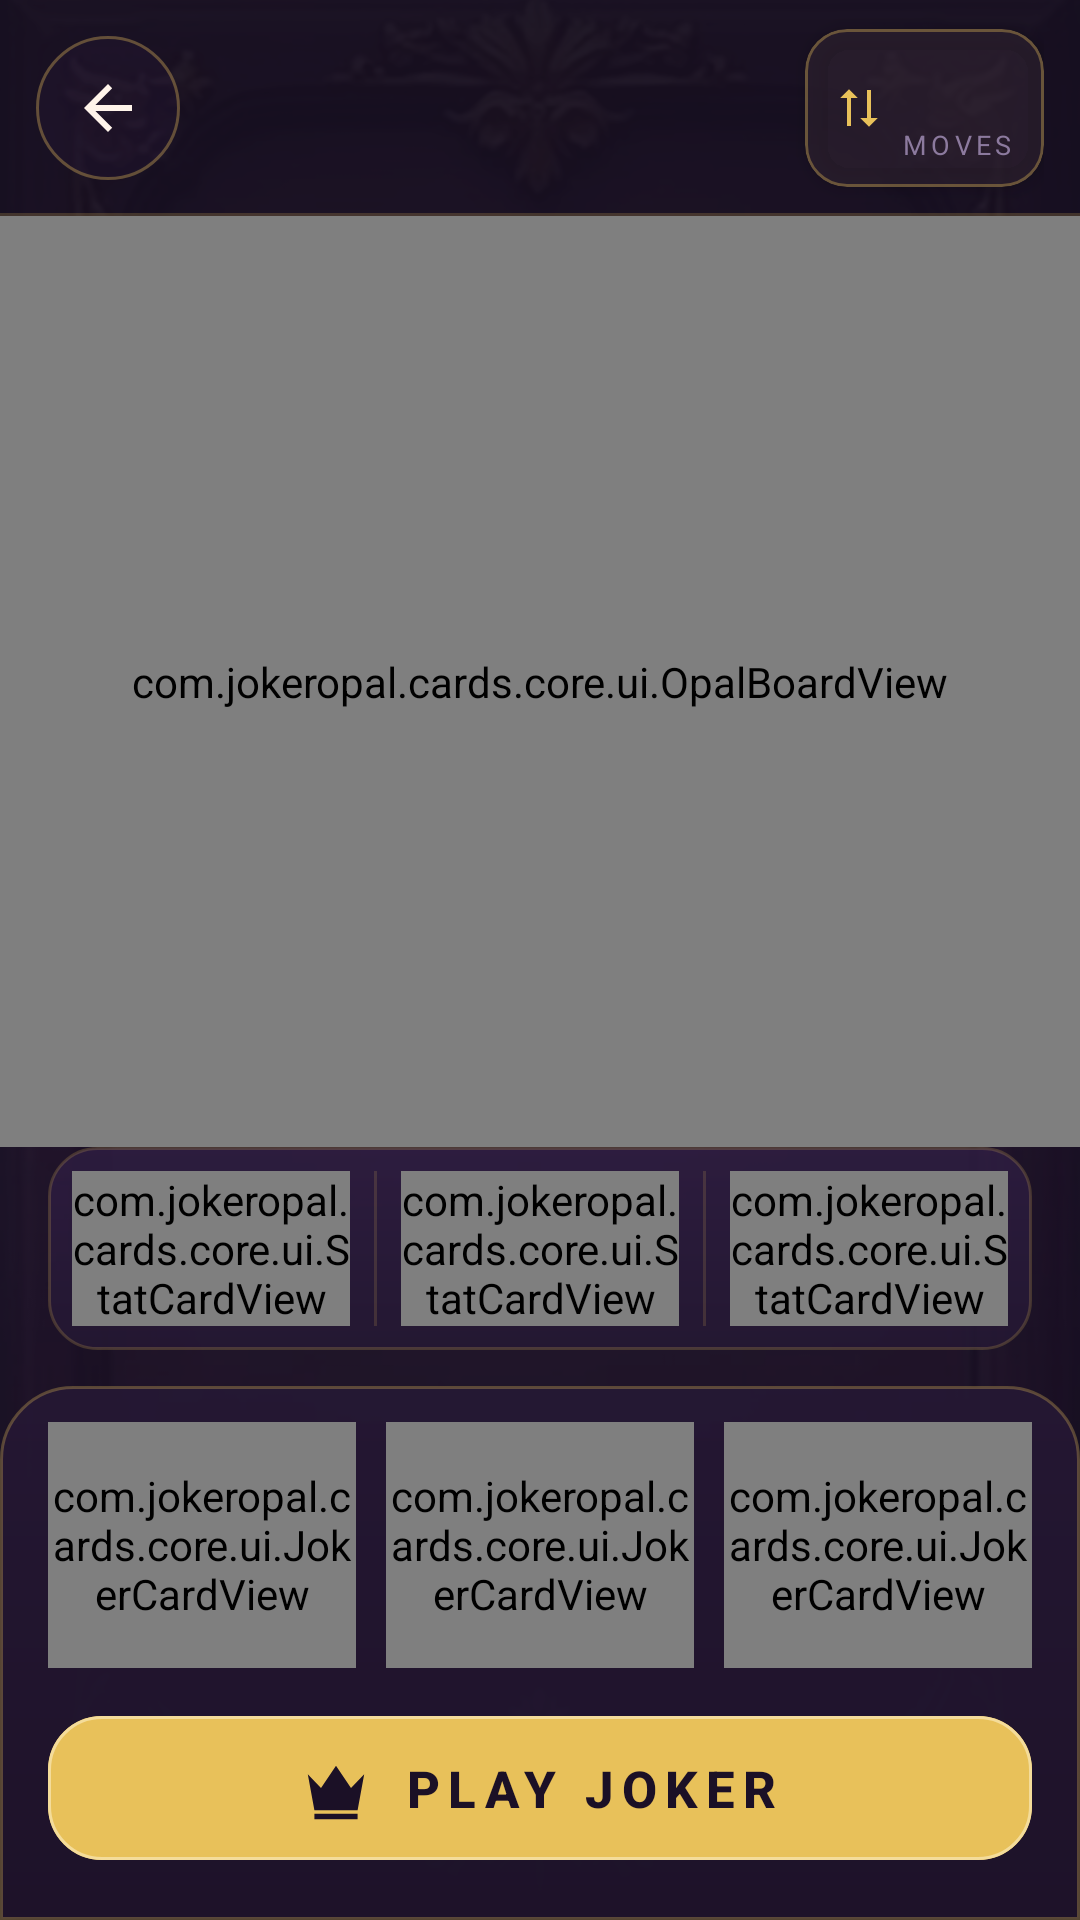

Icons on this 1080px×1920px Android screen, each with its box as (x1, y1, x2, y2):
Back to the card hall: (36, 36, 180, 180)
